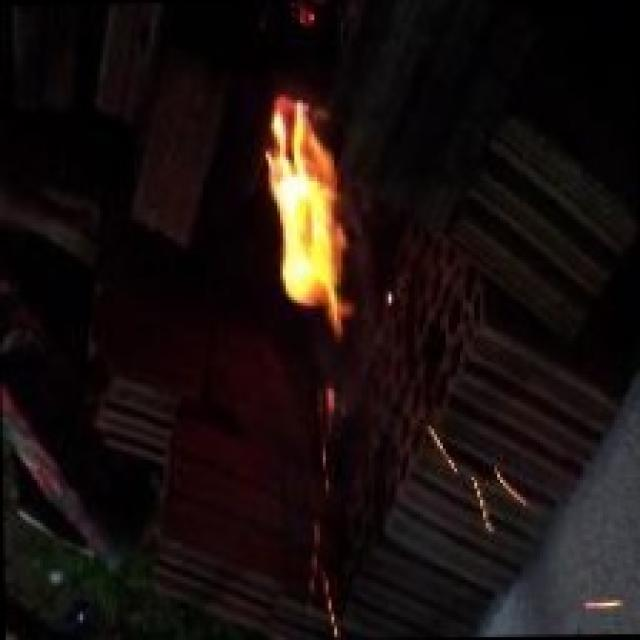fire: (216, 96, 413, 590)
